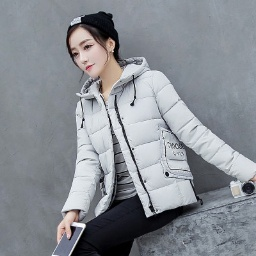face: (62, 11, 122, 80)
